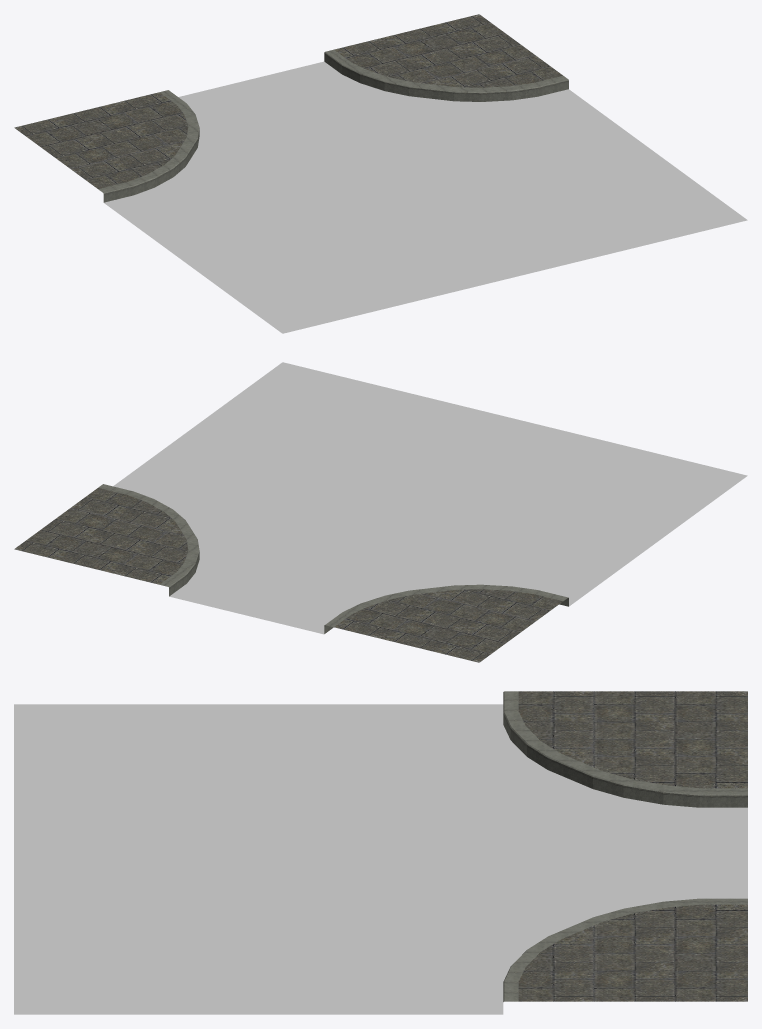
Rendered from CT_Road_Lane_Entry_01.fbx.
3 renders of one model, top to bottom at view 1: azimuth 30°, elevation 25°; view 2: azimuth 150°, elevation 25°; view 3: azimuth 270°, elevation 25°, orthographic. The views are drawn at different scales.
Parts seen in each view (by area): view 1: CT_Road_Lane_Entry_01; view 2: CT_Road_Lane_Entry_01; view 3: CT_Road_Lane_Entry_01.
Boxes of the visible parts, <box> form: CT_Road_Lane_Entry_01: <box>14,14,747,333</box>; CT_Road_Lane_Entry_01: <box>14,362,747,662</box>; CT_Road_Lane_Entry_01: <box>14,691,747,1014</box>.
Size of the model in its own units: 768 by 15 by 768.
